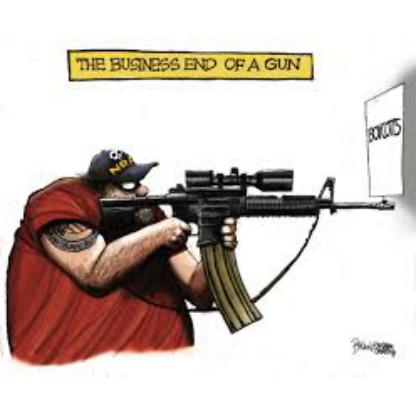gun: (100, 157, 398, 331)
